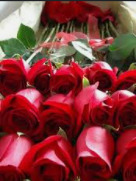RedRose: (29, 134, 78, 181), (0, 91, 43, 137), (73, 82, 114, 126)
